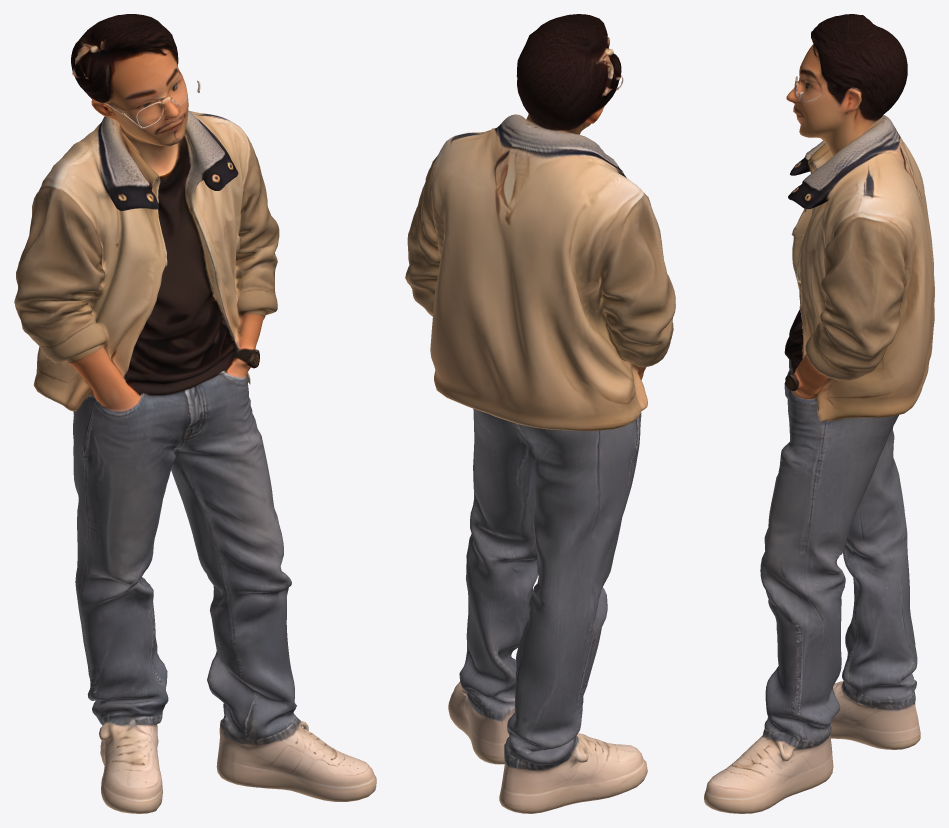
The model's file is base_basic_pbr.glb.
3 renders of one model, left to right at view 1: azimuth 30°, elevation 25°; view 2: azimuth 150°, elevation 25°; view 3: azimuth 270°, elevation 25°, orthographic. The views are drawn at different scales.
Parts seen in each view (by area): view 1: model; view 2: model; view 3: model.
Part boxes in pixels (x1,y1,x2,y2): model: (14, 14, 376, 813); model: (405, 14, 675, 813); model: (704, 14, 934, 813).
Bounding box in the file's own units: 0.74 × 1.9 × 0.556.
Materials: 1 (1 with a texture image).
